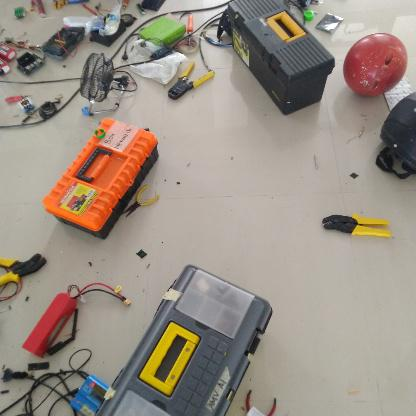red_buoy: (342, 31, 408, 101)
